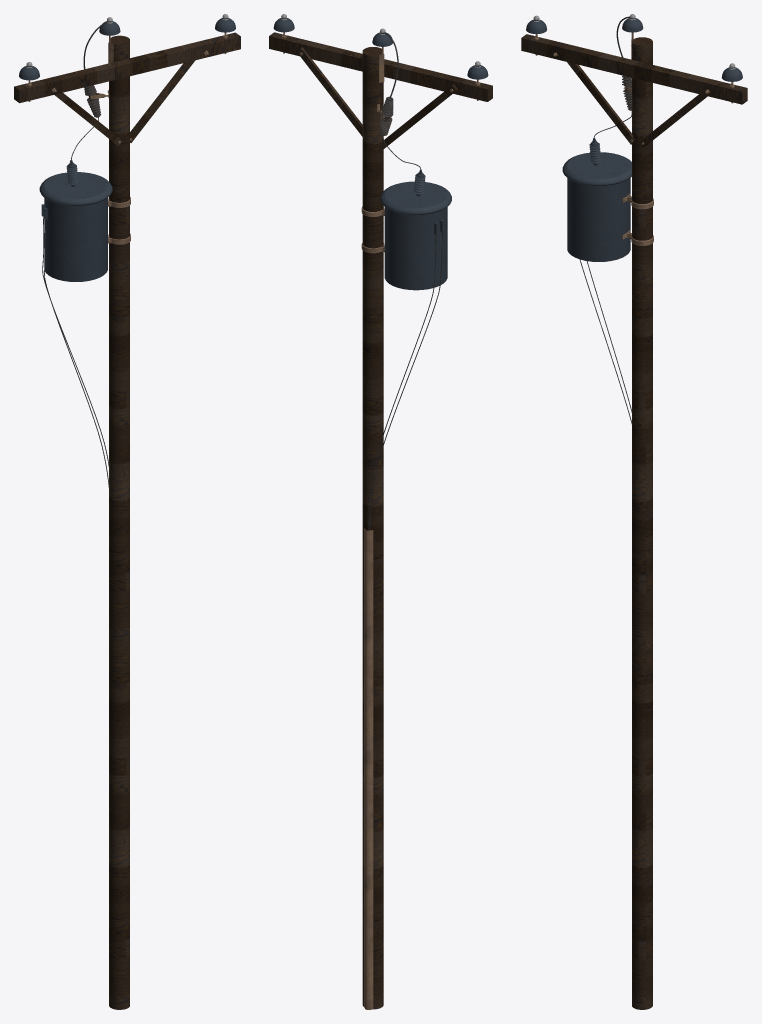
The model's file is TransmissionPole_B.fbx.
The picture shows the model from 3 angles, left to right: view 1: azimuth 30°, elevation 25°; view 2: azimuth 150°, elevation 25°; view 3: azimuth 330°, elevation 25°; orthographic projection.
Parts seen in each view (by area): view 1: TransmissionPole_B_LOD_0; view 2: TransmissionPole_B_LOD_0; view 3: TransmissionPole_B_LOD_0.
Part boxes in pixels (x1,y1,x2,y2): TransmissionPole_B_LOD_0: (14,14,240,1009); TransmissionPole_B_LOD_0: (269,14,492,1009); TransmissionPole_B_LOD_0: (521,14,747,1009).
Size of what is drawn, in the model's own units: 424 by 1812 by 121.
